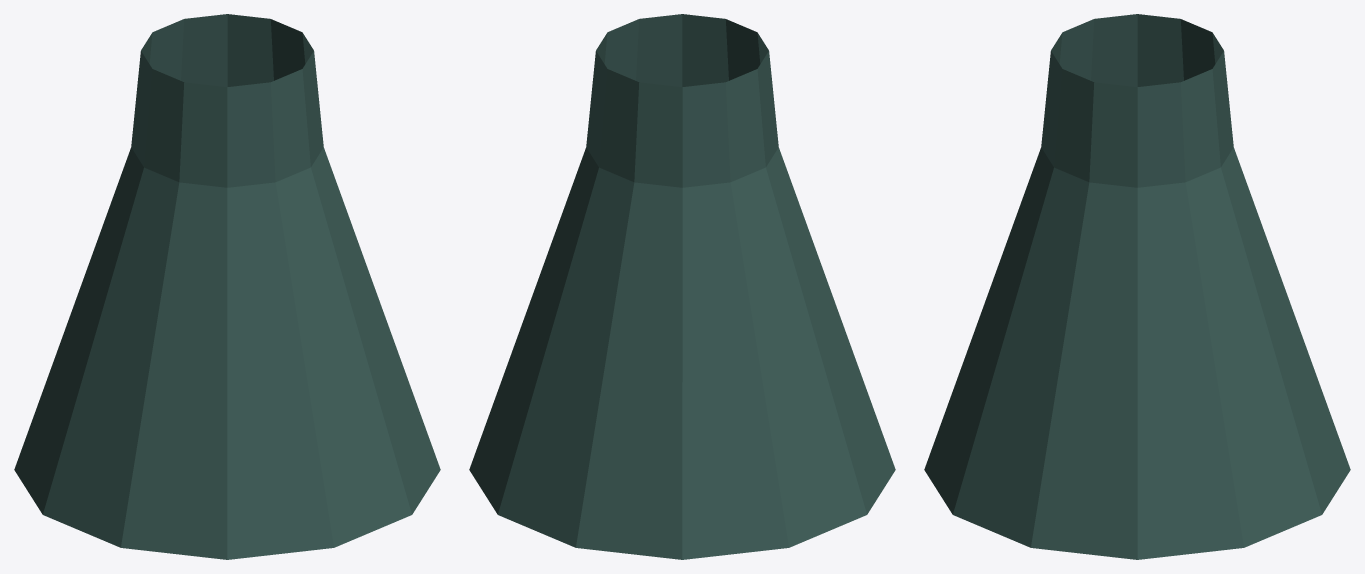
The model's file is Flash long 3 style.fbx.
3 views of the same model, side by side, from view 1: azimuth 30°, elevation 25°; view 2: azimuth 150°, elevation 25°; view 3: azimuth 270°, elevation 25° (orthographic).
Visible parts, largest first — view 1: polySurface15; view 2: polySurface15; view 3: polySurface15.
Boxes of the visible parts, x1,y1,x2,y2 form: polySurface15: (14, 14, 440, 559); polySurface15: (469, 14, 895, 559); polySurface15: (924, 14, 1350, 559).
Size of the model in its own units: 0.3738 by 0.4054 by 0.3738.
